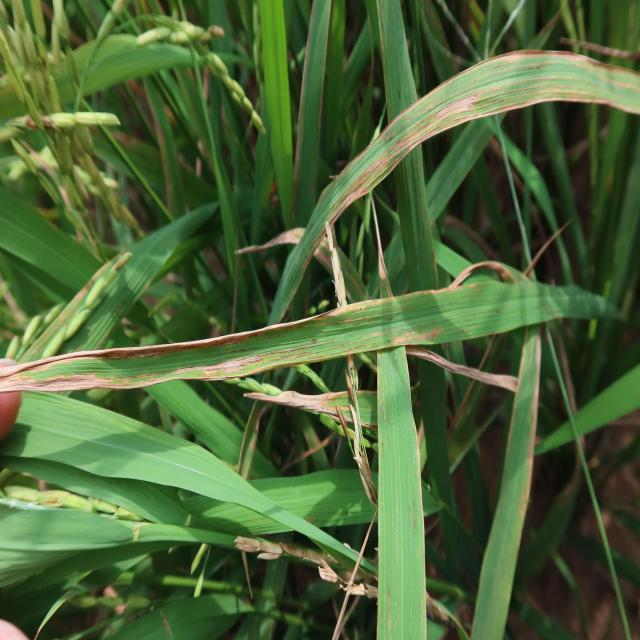Dom soc vi khuan: (98, 337, 340, 382), (442, 96, 612, 131), (430, 59, 553, 107), (302, 186, 369, 272), (397, 90, 485, 149), (334, 155, 389, 209), (391, 128, 437, 172), (483, 83, 571, 101), (319, 309, 406, 326), (309, 343, 369, 360), (390, 328, 440, 344), (378, 361, 384, 461), (263, 350, 312, 362), (369, 328, 400, 339), (387, 563, 391, 635), (381, 368, 386, 423), (387, 396, 390, 453), (380, 128, 392, 141), (393, 351, 398, 379), (336, 342, 352, 347), (414, 499, 416, 533)
